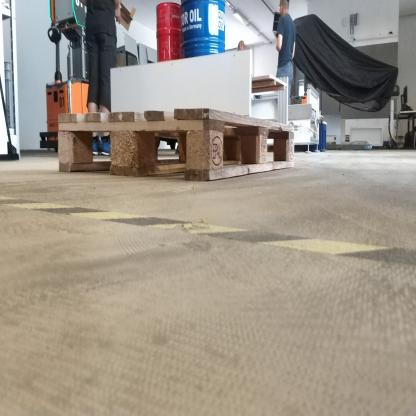BoxFace: (55, 104, 296, 184)
